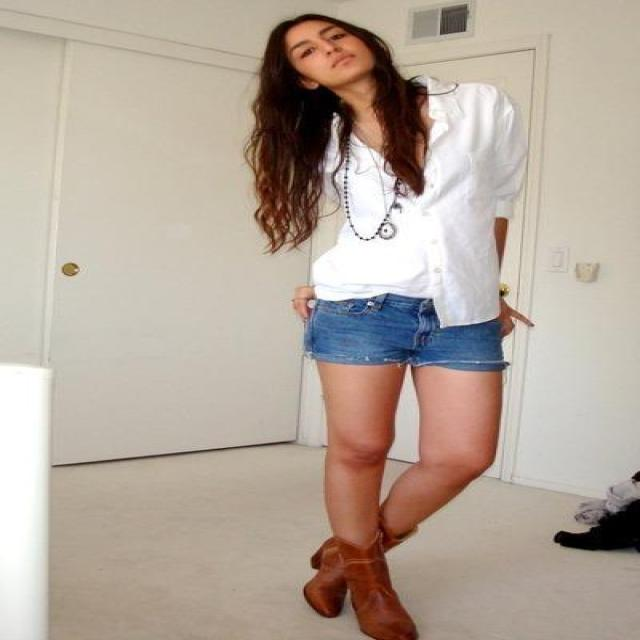shirt: (312, 70, 544, 328)
shoe: (304, 525, 418, 639)
shorts: (302, 294, 509, 372)
